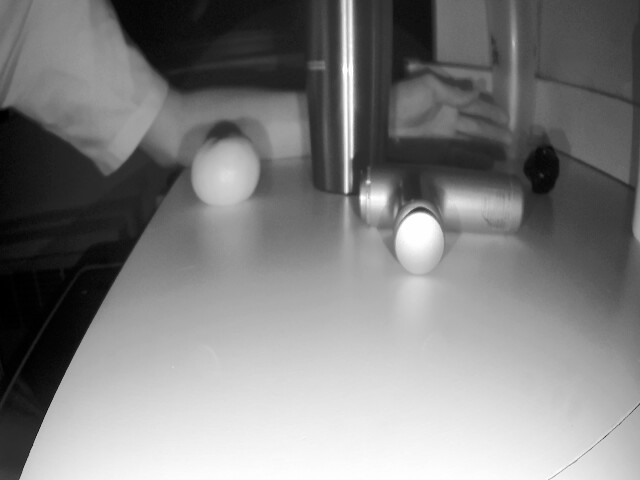silver: (518, 135, 558, 194)
